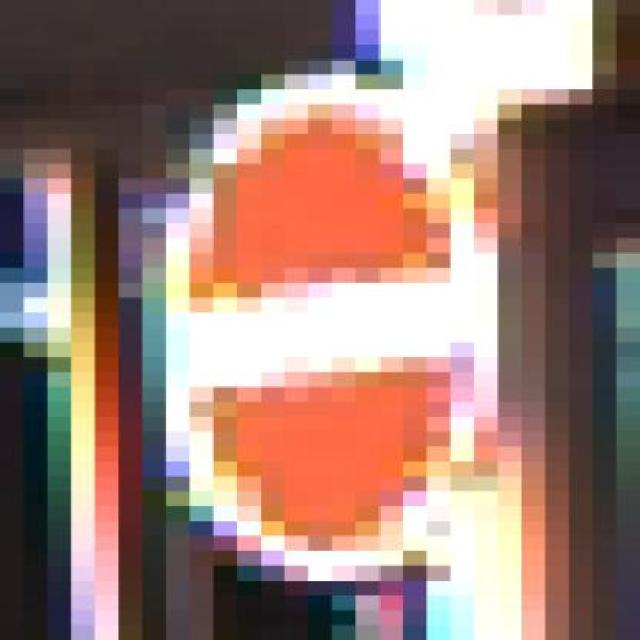B2: (170, 75, 472, 581)
